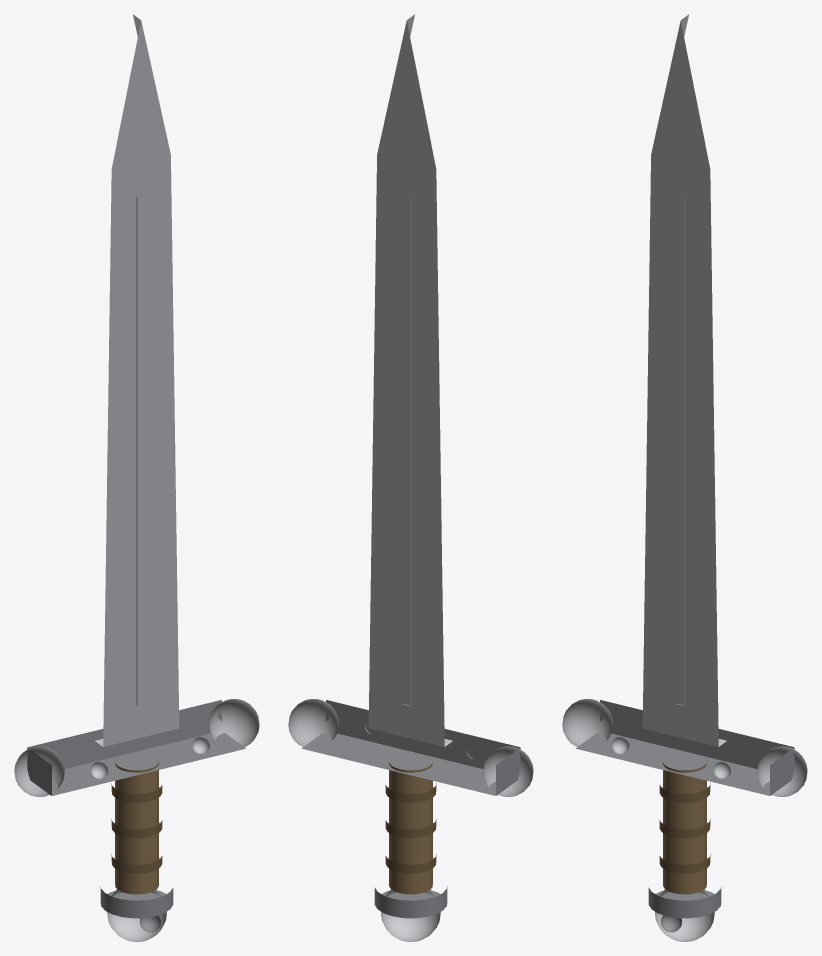
The model's file is iron_sword.glb.
3 views of the same model, side by side, from view 1: azimuth 30°, elevation 25°; view 2: azimuth 150°, elevation 25°; view 3: azimuth 330°, elevation 25° (orthographic).
Visible parts, largest first — view 1: IronSword; view 2: IronSword; view 3: IronSword.
Part boxes in pixels (left/top/right/bottom): IronSword: left=14, top=14, right=259, bottom=941; IronSword: left=288, top=14, right=533, bottom=941; IronSword: left=562, top=14, right=807, bottom=941.
Bounding box in the file's own units: 0.564 × 2.08 × 0.152.
